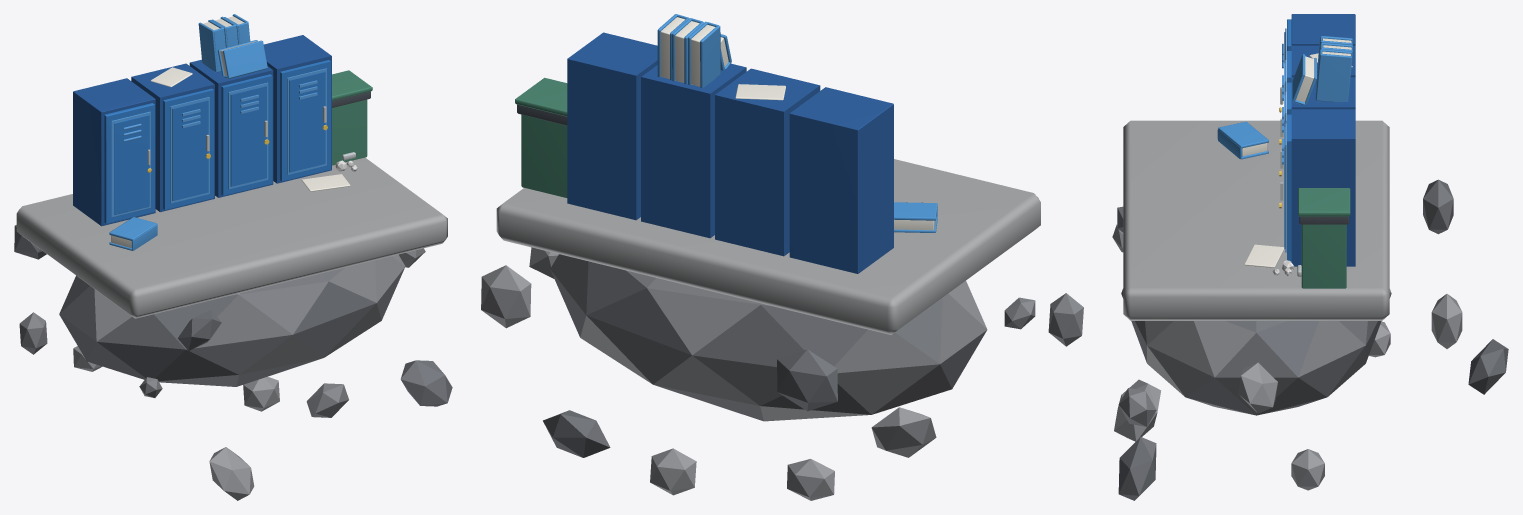
The model's file is Skyland3.fbx.
3 renders of one model, left to right at view 1: azimuth 30°, elevation 25°; view 2: azimuth 150°, elevation 25°; view 3: azimuth 270°, elevation 25°, orthographic. The views are drawn at different scales.
Parts seen in each view (by area): view 1: Plataforma superior, Ilha de pedra low-poly, Armario 1, Armario 4, Armario 3.001, Armario 3, Pedras flutuantes, Pedras flutuantes 2, Lixeira, Livro azul - capa superior.005, Livro azul - capa superior.001, Livro azul - capa superior.002 (+1 smaller); view 2: Ilha de pedra low-poly, Plataforma superior, Armario 1, Armario 4, Armario 3.001, Armario 3, Pedras flutuantes, Pedras flutuantes 2, Lixeira, Livro azul - capa superior.002, Livro azul - capa superior.001, Livro azul - capa superior.003 (+2 smaller); view 3: Plataforma superior, Ilha de pedra low-poly, Armario 4, Pedras flutuantes, Pedras flutuantes 2, Lixeira, Armario 1, Livro azul - capa superior.004, Livro azul - capa superior.001, Armario 3, Livro azul - capa superior.005, Armario 3.001 (+1 smaller).
Boxes of the visible parts, x1=… form: Plataforma superior: x1=16, y1=157, x2=447, y2=318; Ilha de pedra low-poly: x1=59, y1=254, x2=405, y2=386; Armario 1: x1=73, y1=78, x2=155, y2=226; Armario 4: x1=264, y1=35, x2=331, y2=183; Armario 3.001: x1=131, y1=63, x2=214, y2=212; Armario 3: x1=189, y1=59, x2=273, y2=197; Pedras flutuantes: x1=19, y1=248, x2=425, y2=500; Pedras flutuantes 2: x1=14, y1=225, x2=452, y2=406; Lixeira: x1=332, y1=70, x2=372, y2=165; Livro azul - capa superior.005: x1=217, y1=40, x2=267, y2=78; Livro azul - capa superior.001: x1=109, y1=217, x2=157, y2=250; Livro azul - capa superior.002: x1=198, y1=20, x2=225, y2=72; Ilha de pedra low-poly: x1=550, y1=254, x2=987, y2=421; Plataforma superior: x1=496, y1=159, x2=1040, y2=334; Armario 1: x1=789, y1=87, x2=893, y2=273; Armario 4: x1=567, y1=32, x2=657, y2=220; Armario 3.001: x1=715, y1=68, x2=820, y2=256; Armario 3: x1=641, y1=63, x2=746, y2=238; Pedras flutuantes: x1=481, y1=247, x2=1083, y2=495; Pedras flutuantes 2: x1=543, y1=297, x2=1035, y2=500; Lixeira: x1=515, y1=77, x2=567, y2=197; Livro azul - capa superior.002: x1=688, y1=21, x2=720, y2=87; Livro azul - capa superior.001: x1=894, y1=202, x2=937, y2=232; Livro azul - capa superior.003: x1=672, y1=18, x2=704, y2=84; Plataforma superior: x1=1123, y1=120, x2=1389, y2=320; Ilha de pedra low-poly: x1=1121, y1=288, x2=1391, y2=415; Armario 4: x1=1279, y1=109, x2=1355, y2=266; Pedras flutuantes: x1=1114, y1=294, x2=1462, y2=490; Pedras flutuantes 2: x1=1112, y1=179, x2=1508, y2=500; Lixeira: x1=1297, y1=188, x2=1350, y2=288; Armario 1: x1=1279, y1=14, x2=1355, y2=112; Livro azul - capa superior.004: x1=1315, y1=49, x2=1352, y2=101; Livro azul - capa superior.001: x1=1217, y1=121, x2=1268, y2=159; Armario 3: x1=1279, y1=77, x2=1355, y2=176; Livro azul - capa superior.005: x1=1292, y1=54, x2=1316, y2=104; Armario 3.001: x1=1279, y1=45, x2=1355, y2=144.
Bounding box in the file's own units: 660 × 588 × 483.
